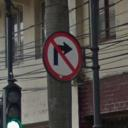NoVirarDireita: (44, 32, 82, 80)
